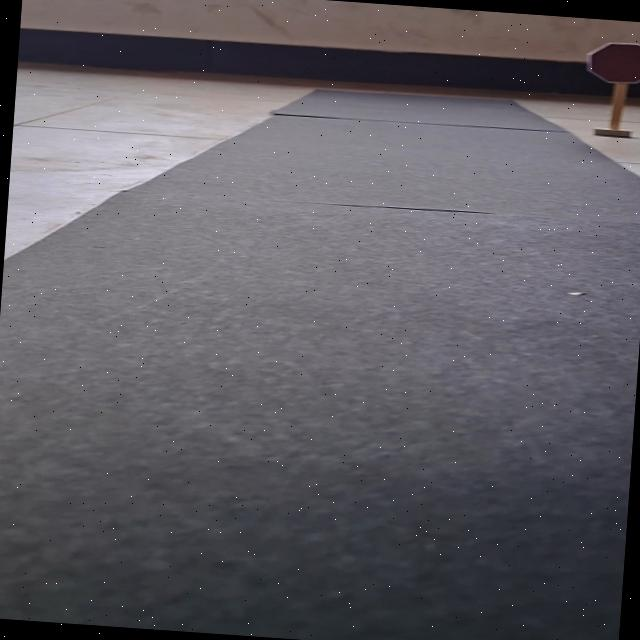Stop: (586, 40, 640, 85)
